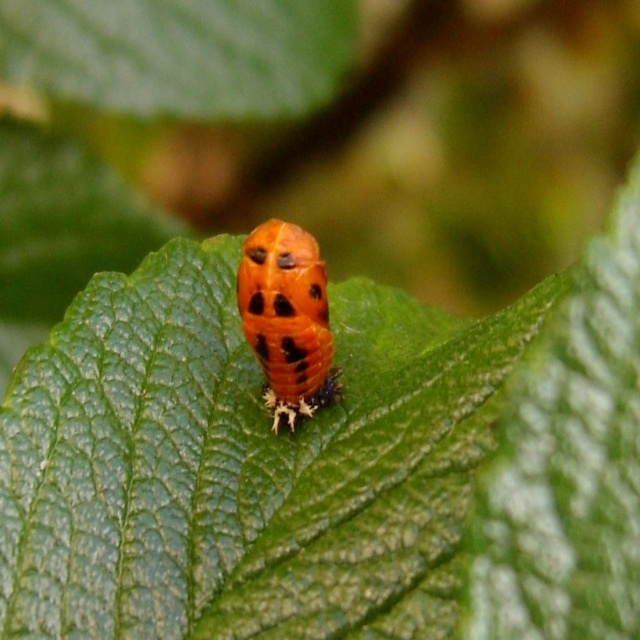Ladybug: (236, 218, 344, 437)
